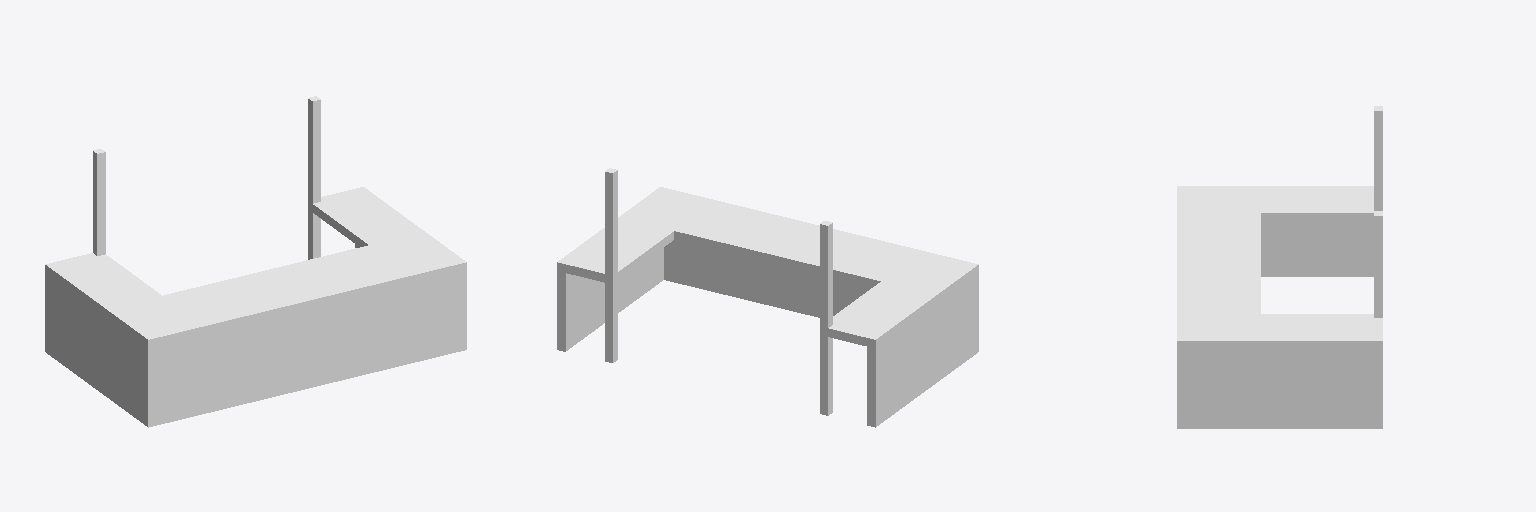
File: bigScreenDesk.obj
3 renders of one model, left to right at view 1: azimuth 30°, elevation 25°; view 2: azimuth 150°, elevation 25°; view 3: azimuth 270°, elevation 25°, orthographic.
Parts seen in each view (by area): view 1: bigScreenDesk; view 2: bigScreenDesk; view 3: bigScreenDesk.
Part boxes in pixels (x1,y1,x2,y2): bigScreenDesk: (45, 96, 466, 427); bigScreenDesk: (557, 168, 978, 427); bigScreenDesk: (1177, 106, 1382, 428).
Size of the model in its own units: 114 by 65 by 64.